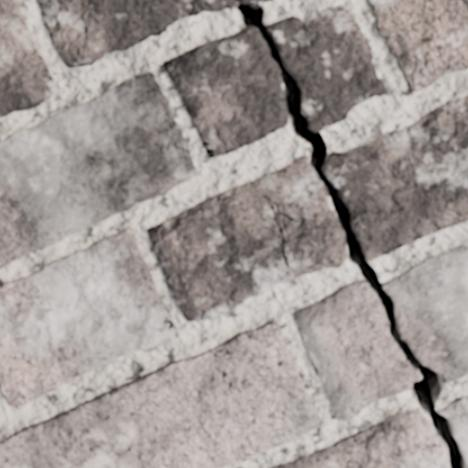brick: (0, 322, 321, 467), (0, 72, 197, 266), (0, 227, 176, 406), (370, 0, 467, 89), (0, 0, 56, 116)
broken_brick: (145, 153, 347, 321), (326, 93, 467, 261), (292, 279, 419, 420), (162, 27, 287, 157), (267, 3, 387, 131), (36, 0, 235, 68), (381, 243, 467, 383), (272, 406, 446, 467), (438, 395, 467, 467), (251, 0, 272, 1)
crack: (234, 0, 466, 467), (195, 123, 214, 157), (294, 303, 313, 325), (298, 447, 325, 459), (146, 220, 171, 232), (167, 140, 189, 152), (162, 319, 176, 330), (461, 0, 467, 10)
